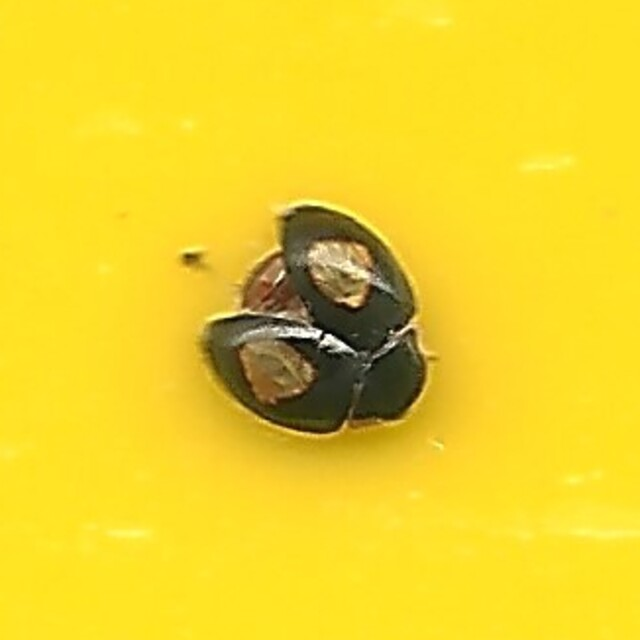Coleoptera: (196, 200, 444, 440)
